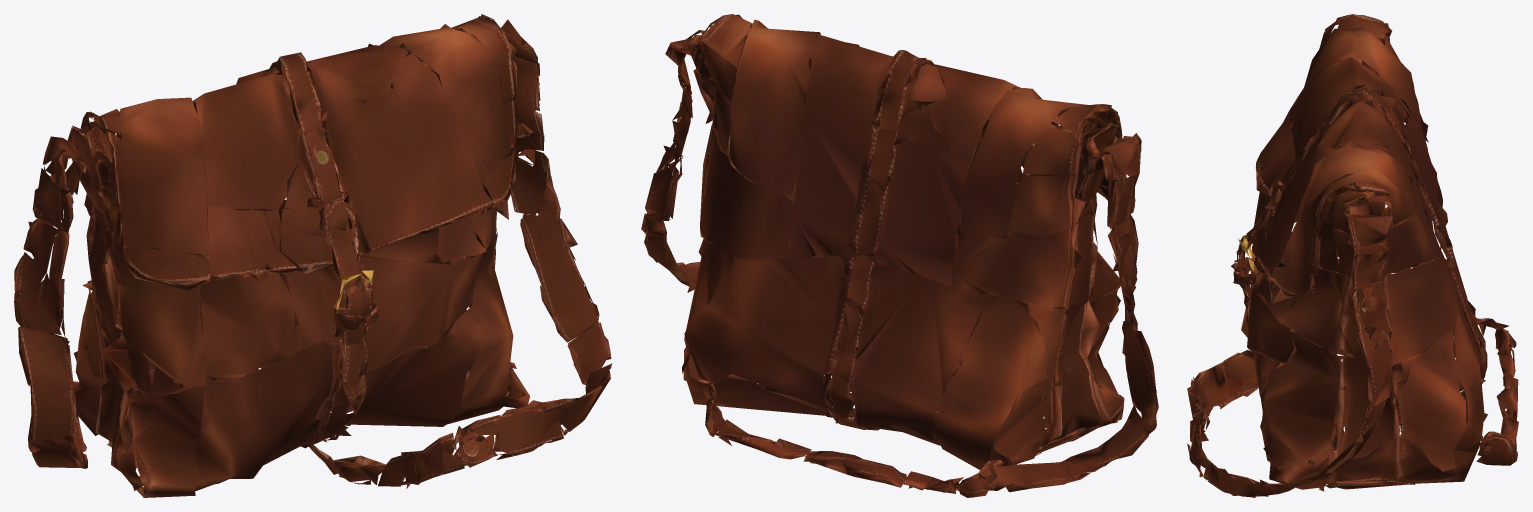
The model's file is paper-satchel-interior-lod.glb.
3 renders of one model, left to right at view 1: azimuth 30°, elevation 25°; view 2: azimuth 150°, elevation 25°; view 3: azimuth 270°, elevation 25°, orthographic. The views are drawn at different scales.
Visible parts, largest first — view 1: Mesh_0; view 2: Mesh_0; view 3: Mesh_0.
Part boxes in pixels (x1,y1,x2,y2): Mesh_0: (14, 14, 612, 497); Mesh_0: (641, 14, 1158, 497); Mesh_0: (1187, 14, 1518, 497).
Size of the model in its own units: 1.9 by 1.26 by 1.14.
1 material, 1 textured.
